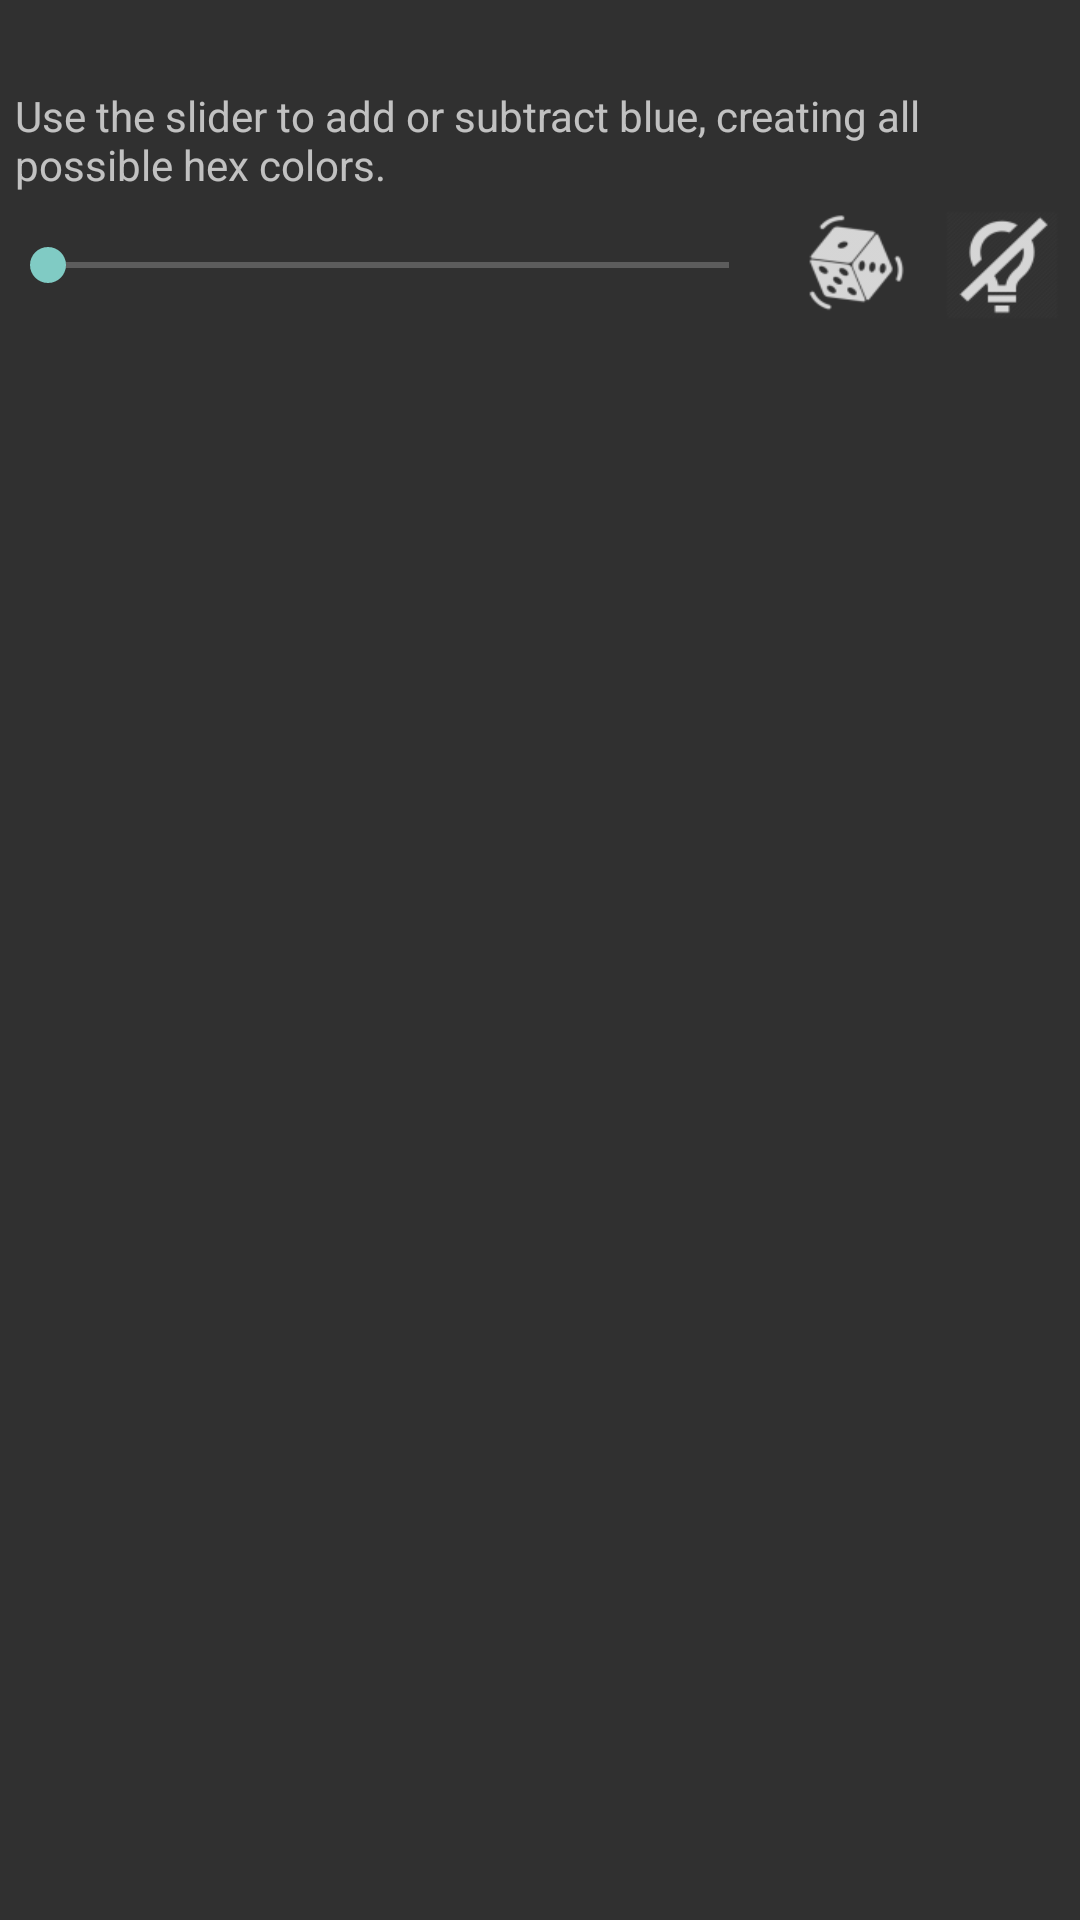

Named icons in this screenshot (1080 × 1920) and their centers, [x,y]:
dice: [856,262]
off: [1003,265]
